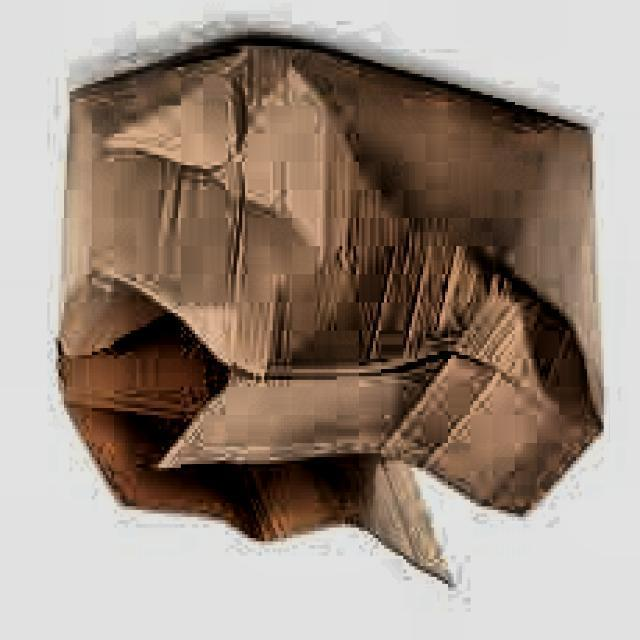cardboard: (53, 42, 604, 591)
